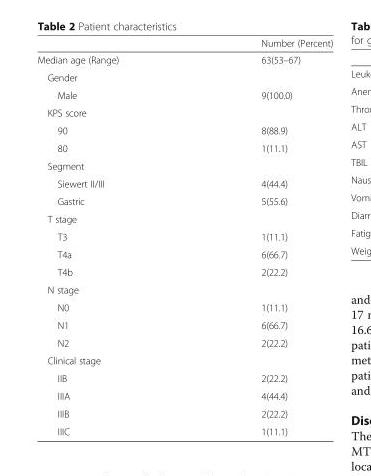table: (36, 37, 332, 436)
table column: (36, 37, 189, 436), (189, 37, 332, 436)
table column header: (36, 37, 332, 51)
table projected row header: (36, 103, 332, 121), (36, 156, 332, 174), (36, 209, 332, 227), (36, 280, 332, 298), (36, 351, 332, 369), (36, 68, 332, 85)
table row: (36, 85, 332, 103), (36, 103, 332, 121), (36, 121, 332, 139), (36, 156, 332, 174), (36, 174, 332, 192), (36, 209, 332, 227), (36, 227, 332, 245), (36, 262, 332, 280), (36, 280, 332, 298), (36, 315, 332, 333), (36, 333, 332, 351), (36, 351, 332, 369), (36, 386, 332, 404), (36, 404, 332, 422), (36, 51, 332, 68), (36, 68, 332, 85), (36, 139, 332, 156), (36, 192, 332, 209), (36, 245, 332, 262), (36, 298, 332, 315), (36, 369, 332, 386), (36, 37, 332, 51), (36, 422, 332, 436)
